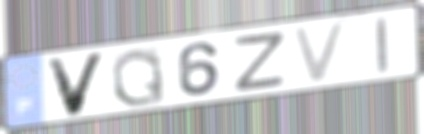6: (177, 41, 223, 99)
I: (373, 13, 391, 76)
Q: (109, 46, 168, 109)
V: (42, 50, 111, 119), (289, 18, 351, 86)
Z: (231, 28, 289, 95)
